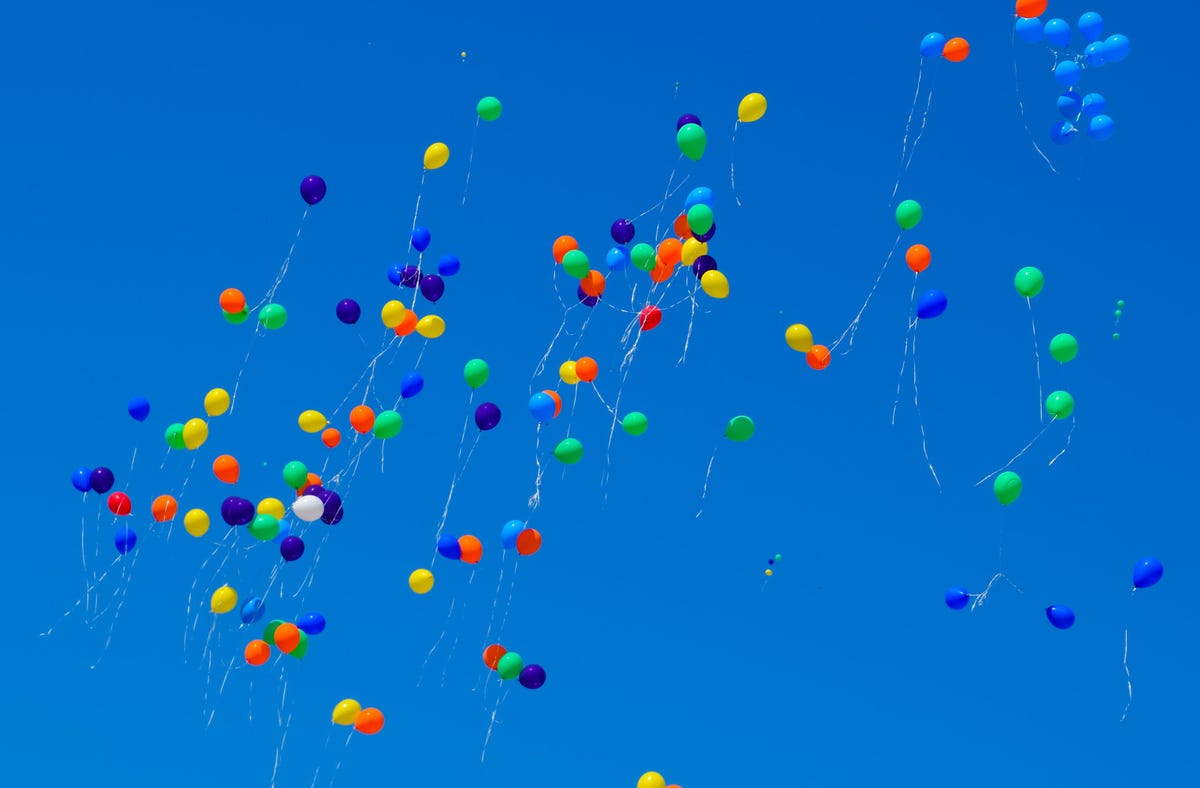Balloon: (676, 124, 707, 160), (993, 471, 1021, 506), (1014, 267, 1044, 296), (917, 290, 948, 318), (738, 92, 766, 123), (1044, 18, 1071, 50), (292, 495, 324, 522), (786, 324, 815, 353), (529, 393, 557, 423), (1049, 333, 1077, 362), (701, 270, 728, 300), (1105, 34, 1131, 65), (1045, 604, 1077, 629), (1047, 391, 1074, 420), (1015, 18, 1044, 45), (687, 204, 713, 234), (184, 508, 210, 538), (274, 623, 299, 654), (423, 142, 450, 170), (725, 415, 754, 441), (682, 236, 708, 265), (373, 410, 402, 436), (301, 175, 326, 205), (184, 418, 208, 449), (1077, 12, 1104, 39), (474, 403, 501, 430), (561, 250, 587, 278), (213, 455, 239, 483), (332, 699, 360, 725), (356, 708, 384, 734), (906, 244, 931, 273), (897, 200, 921, 230), (415, 315, 446, 338), (1088, 115, 1114, 142), (1053, 60, 1079, 87), (350, 406, 376, 433), (211, 586, 237, 613), (658, 238, 683, 266), (554, 438, 582, 463), (240, 597, 265, 625), (153, 494, 178, 522), (497, 652, 522, 680), (464, 359, 488, 388), (381, 300, 405, 329), (219, 288, 246, 313), (553, 235, 577, 263), (250, 515, 278, 539), (259, 304, 287, 328), (299, 410, 328, 433), (1056, 92, 1082, 117), (1050, 120, 1075, 146), (335, 298, 360, 324), (517, 529, 542, 555), (920, 32, 944, 59), (807, 343, 831, 370), (501, 521, 525, 548), (205, 388, 229, 415), (519, 665, 546, 689), (297, 612, 326, 634), (1133, 559, 1154, 589), (944, 37, 969, 62), (408, 568, 433, 593), (244, 640, 269, 665), (611, 219, 635, 245), (631, 243, 655, 269), (420, 275, 444, 301), (282, 461, 306, 487), (458, 536, 481, 563), (944, 586, 969, 610), (90, 468, 114, 493), (477, 97, 503, 120), (401, 372, 424, 398), (230, 500, 253, 526), (395, 309, 417, 336), (437, 536, 461, 560), (581, 271, 604, 296), (281, 537, 304, 562), (115, 529, 136, 556), (108, 492, 131, 515), (693, 256, 717, 278), (576, 357, 598, 381), (623, 412, 647, 434), (639, 306, 661, 330), (1016, 1, 1047, 18), (606, 247, 628, 270), (72, 467, 92, 492), (1080, 94, 1103, 115), (165, 424, 186, 447), (128, 398, 149, 421), (411, 227, 431, 251), (484, 645, 504, 669), (559, 361, 579, 384), (401, 266, 422, 287), (438, 256, 460, 276), (322, 428, 340, 447)
